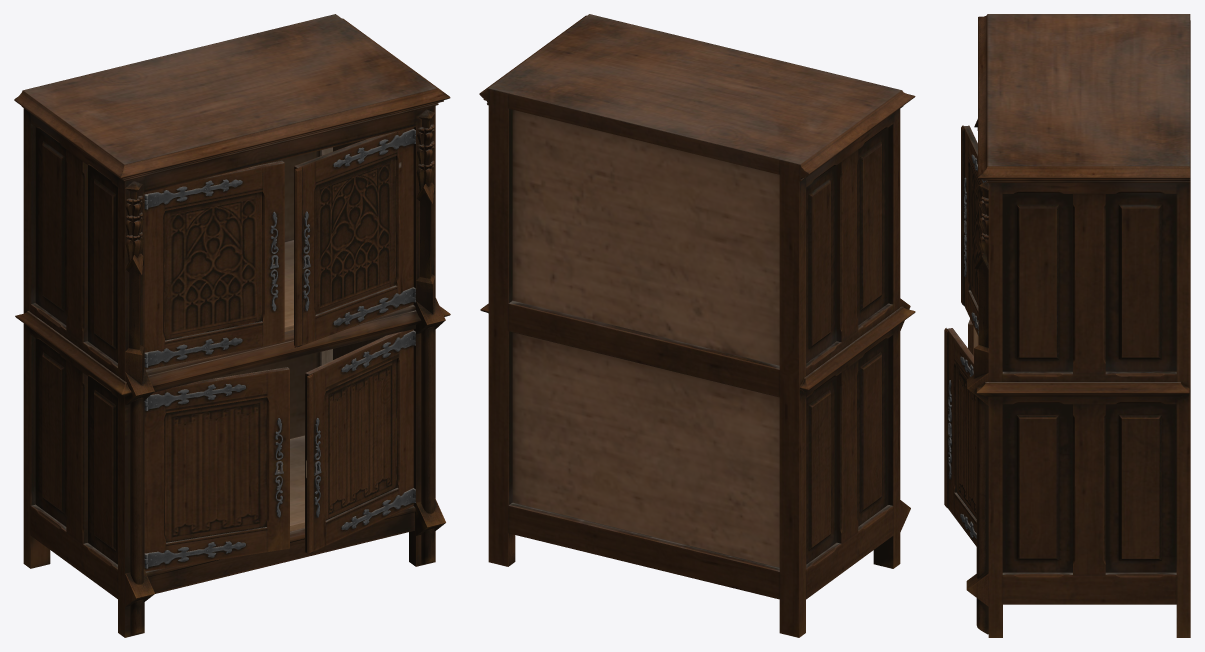
Rendered from gothic_cabinet_01.glb.
3 renders of one model, left to right at view 1: azimuth 30°, elevation 25°; view 2: azimuth 150°, elevation 25°; view 3: azimuth 270°, elevation 25°, orthographic.
Visible parts, largest first — view 1: cabinet, door_3, door_1, door_2, door_4; view 2: cabinet; view 3: cabinet, door_4, door_2.
Boxes of the visible parts, x1,y1,x2,y2 form: cabinet: [14, 14, 450, 637]; door_3: [144, 367, 289, 571]; door_1: [144, 160, 284, 369]; door_2: [294, 127, 415, 347]; door_4: [305, 329, 415, 554]; cabinet: [479, 14, 915, 637]; cabinet: [966, 14, 1190, 637]; door_4: [944, 328, 976, 546]; door_2: [961, 125, 986, 335].
Size of the model in its own units: 1.72 by 2.36 by 1.12.
1 material, 1 textured.
